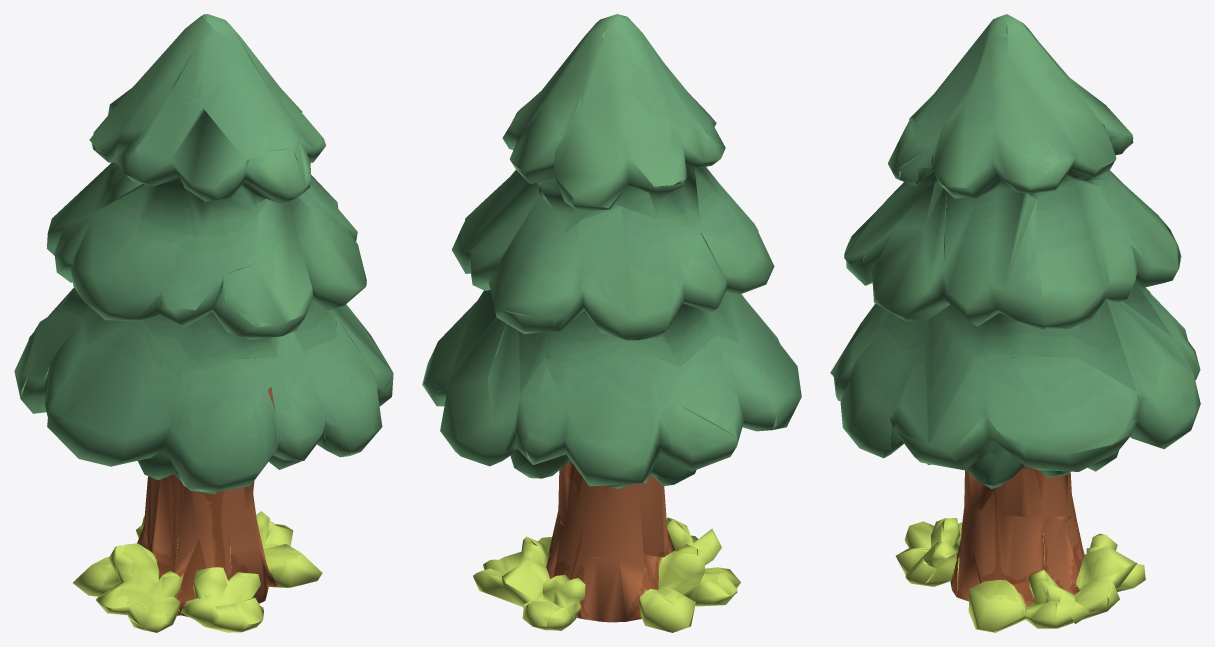
File: M-6_03_pine.glb
The picture shows the model from 3 angles, left to right: view 1: azimuth 30°, elevation 25°; view 2: azimuth 150°, elevation 25°; view 3: azimuth 270°, elevation 25°; orthographic projection.
Visible parts, largest first — view 1: pine; view 2: pine; view 3: pine.
Boxes of the visible parts, left/top/right/bottom form: pine: left=14, top=14, right=393, bottom=632; pine: left=422, top=14, right=801, bottom=632; pine: left=830, top=14, right=1200, bottom=632.
Size of the model in its own units: 4.69 by 8.06 by 4.74.
Materials: 1 (1 with a texture image).
